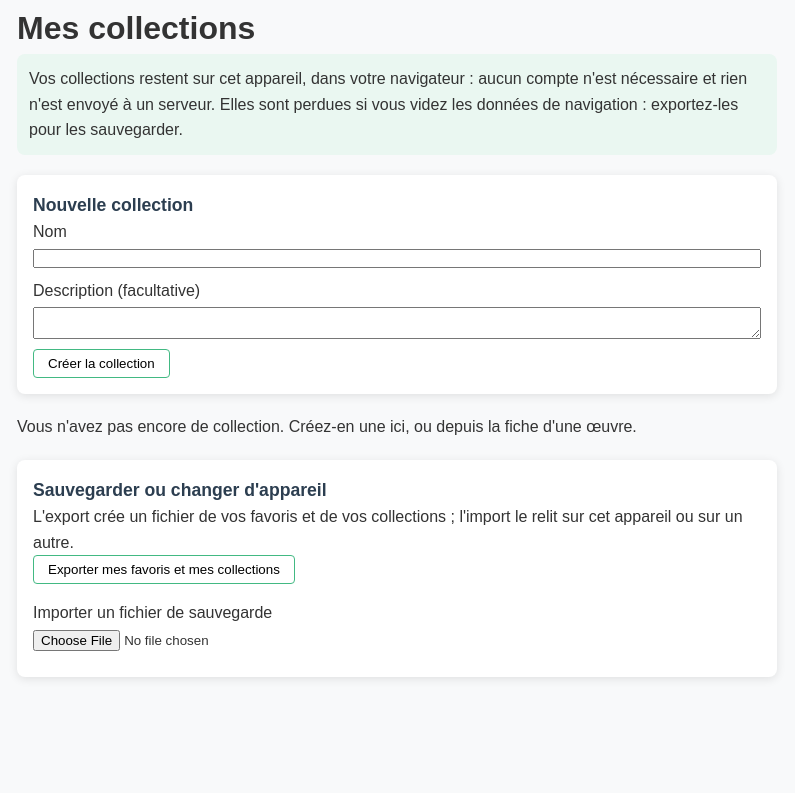
Test: CollectionsView › signale un stockage indisponible
The image size is (795, 793).
Type "X" into the field with test id "collection-nom" at (397, 258), box [33,249,761,268]
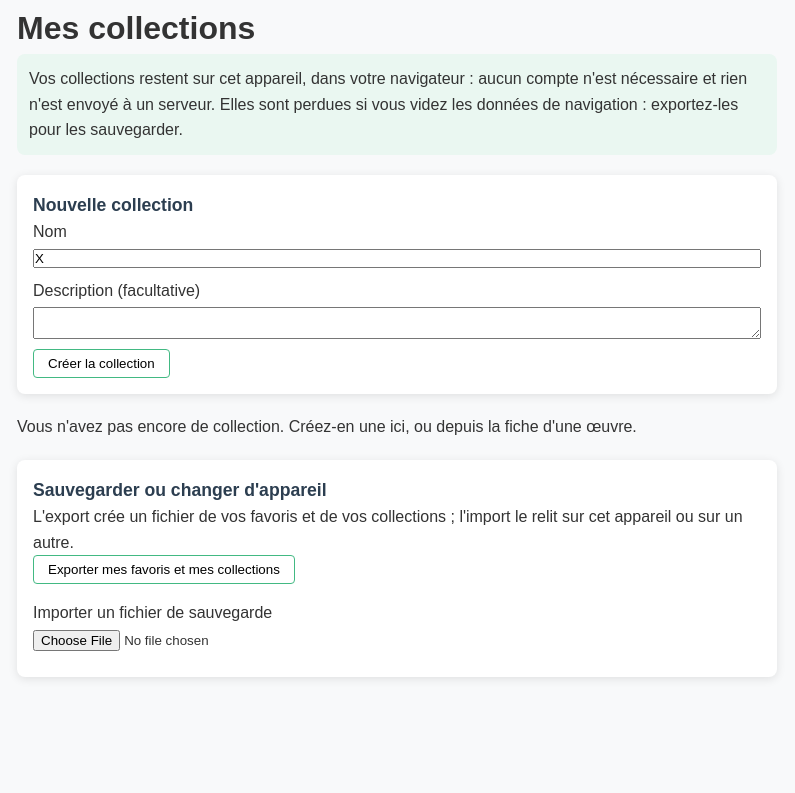
Submit the form with test id "collection-form", box [17,175,777,394]
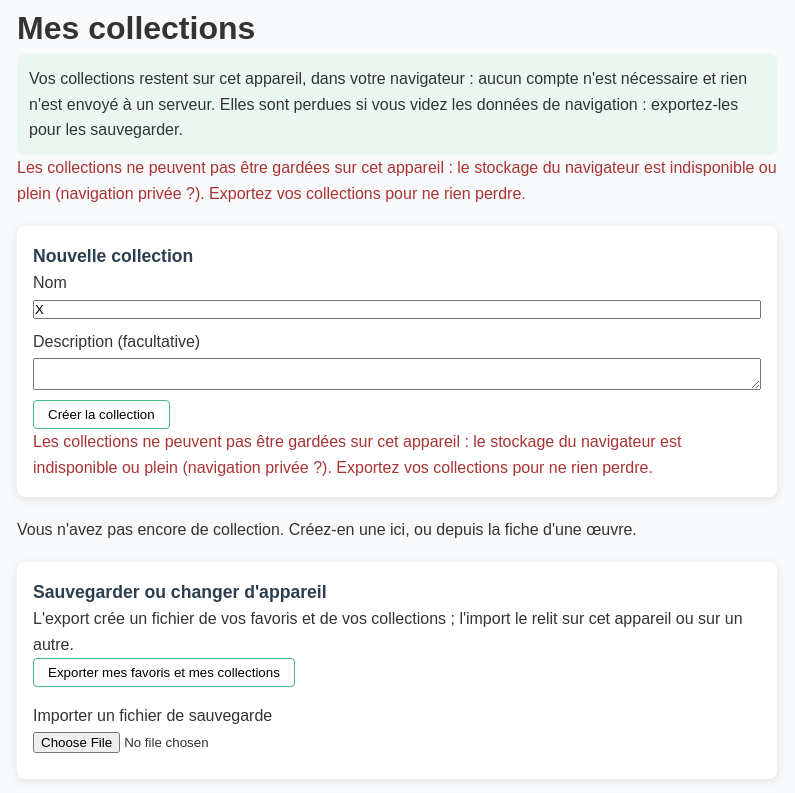
Result: the message with test id "collections-probleme" shows "ne peuvent pas être gardées" at [17,159,777,202]
